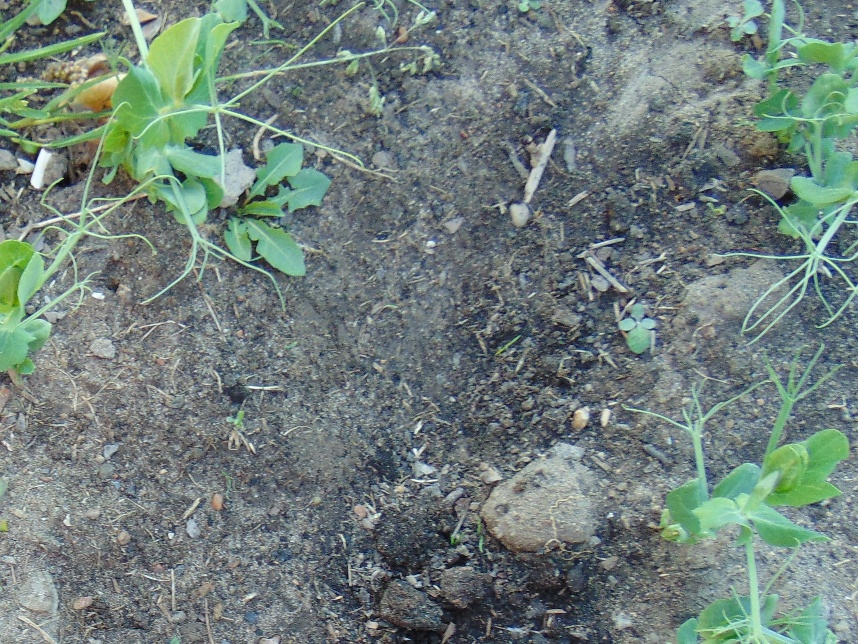crop: (1, 112, 219, 377), (661, 355, 851, 644), (668, 15, 858, 304), (90, 1, 260, 290)
weed: (1, 1, 114, 147), (226, 137, 333, 283), (619, 305, 661, 356)
